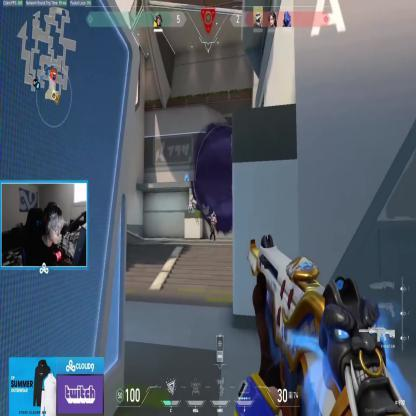enemy: (208, 210, 218, 242)
enemy_head: (212, 211, 216, 217)
